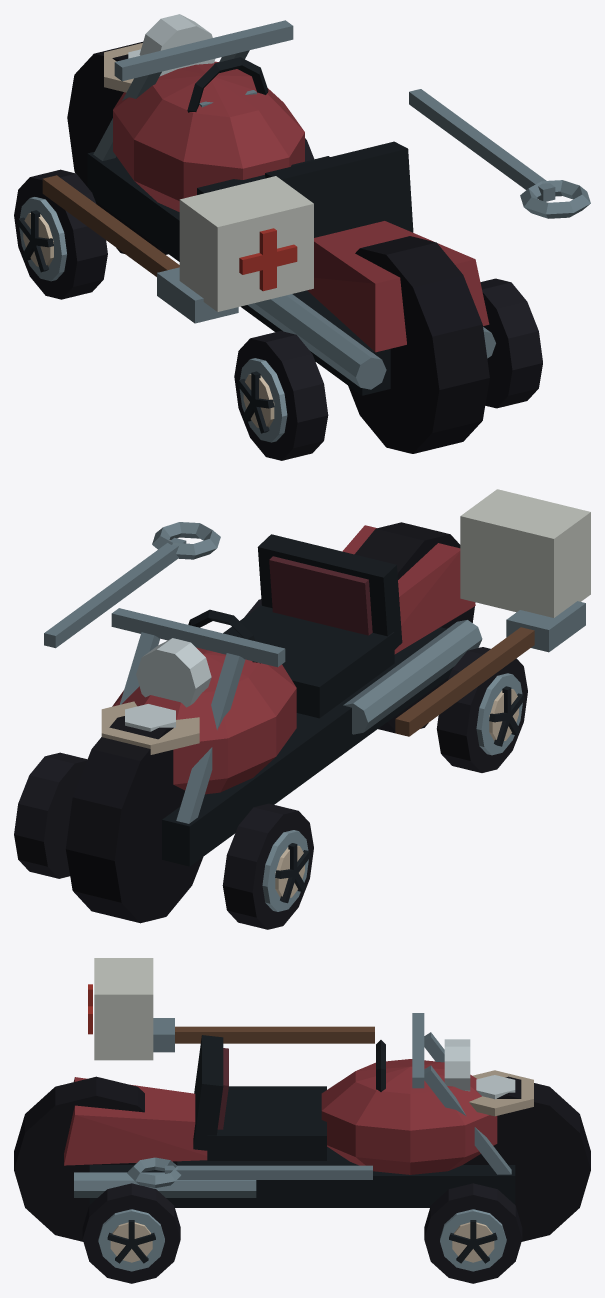
Rendered from kart.glb.
The picture shows the model from 3 angles, top to bottom: view 1: azimuth 30°, elevation 25°; view 2: azimuth 150°, elevation 25°; view 3: azimuth 270°, elevation 25°; orthographic projection. The views are drawn at different scales.
Parts seen in each view (by area): view 1: identity-motorbike-motorbike-tank-and-fork, identity-motorbike-motif-medical, identity-motorbike-driver-cockpit, identity-motorbike-motif-tools, wheel-rear-left, wheel-front-left, wheel-rear-right, identity-motorbike-motif-badge; view 2: identity-motorbike-motorbike-tank-and-fork, identity-motorbike-driver-cockpit, identity-motorbike-motif-medical, identity-motorbike-motif-tools, wheel-front-left, wheel-rear-left, wheel-front-right, identity-motorbike-motif-badge; view 3: identity-motorbike-motorbike-tank-and-fork, identity-motorbike-driver-cockpit, identity-motorbike-motif-tools, wheel-front-right, wheel-rear-right, identity-motorbike-motif-medical, identity-motorbike-motif-badge.
Boxes of the visible parts, bbox=[...] form: identity-motorbike-motorbike-tank-and-fork: bbox=[67, 14, 495, 453]; identity-motorbike-motif-medical: bbox=[179, 176, 313, 311]; identity-motorbike-driver-cockpit: bbox=[187, 57, 413, 237]; identity-motorbike-motif-tools: bbox=[42, 89, 590, 323]; wheel-rear-left: bbox=[234, 331, 328, 460]; wheel-front-left: bbox=[14, 169, 107, 299]; wheel-rear-right: bbox=[480, 278, 542, 408]; identity-motorbike-motif-badge: bbox=[104, 43, 142, 92]; identity-motorbike-motorbike-tank-and-fork: bbox=[65, 522, 482, 923]; identity-motorbike-driver-cockpit: bbox=[188, 534, 402, 718]; identity-motorbike-motif-medical: bbox=[460, 489, 590, 617]; identity-motorbike-motif-tools: bbox=[44, 522, 585, 736]; wheel-front-left: bbox=[222, 803, 313, 929]; wheel-rear-left: bbox=[436, 647, 527, 772]; wheel-front-right: bbox=[14, 752, 87, 878]; identity-motorbike-motif-badge: bbox=[101, 701, 199, 754]; identity-motorbike-motorbike-tank-and-fork: bbox=[14, 1013, 590, 1241]; identity-motorbike-driver-cockpit: bbox=[193, 1035, 385, 1160]; identity-motorbike-motif-tools: bbox=[127, 1018, 374, 1187]; wheel-front-right: bbox=[424, 1183, 522, 1283]; wheel-rear-right: bbox=[82, 1183, 180, 1283]; identity-motorbike-motif-medical: bbox=[88, 958, 153, 1060]; identity-motorbike-motif-badge: bbox=[469, 1070, 533, 1116].
Size of the model in its own units: 1.91 by 1.15 by 2.94.
